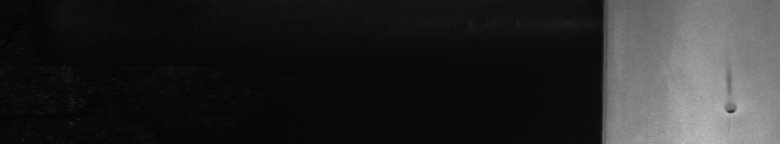fi: (720, 70, 742, 120)
